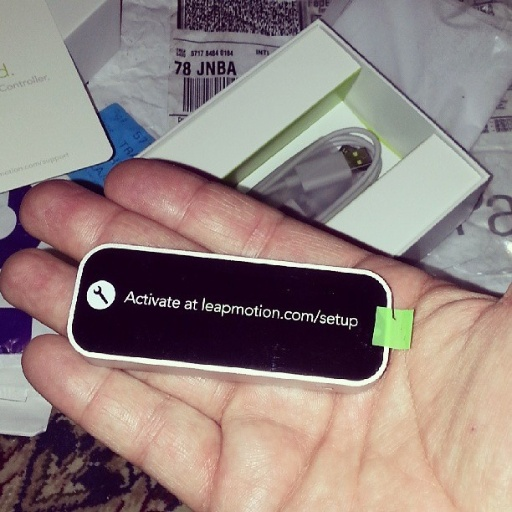hand: (0, 157, 510, 510)
